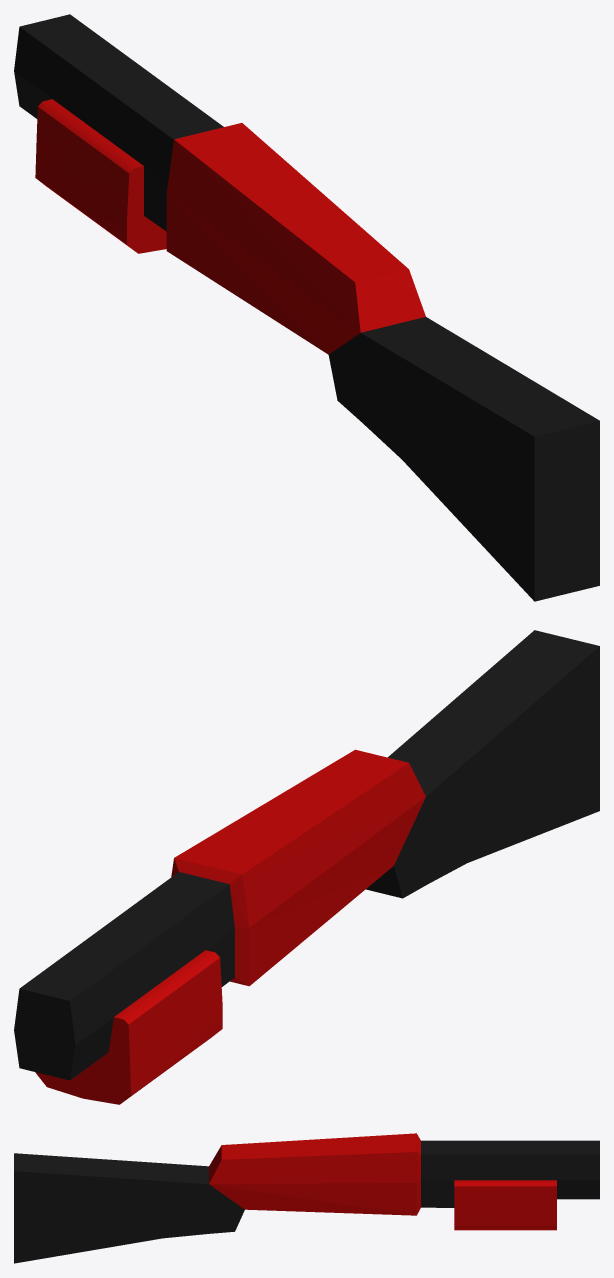
The model's file is Shotgun Gun.FBX.
3 renders of one model, top to bottom at view 1: azimuth 30°, elevation 25°; view 2: azimuth 150°, elevation 25°; view 3: azimuth 270°, elevation 25°, orthographic. The views are drawn at different scales.
Parts seen in each view (by area): view 1: Weapon; view 2: Weapon; view 3: Weapon.
Part boxes in pixels (box(x1,y1,x2,y2)): Weapon: box(14, 14, 599, 601); Weapon: box(14, 630, 599, 1104); Weapon: box(14, 1133, 599, 1263).
Bounding box in the file's own units: 17.62 × 35.16 × 167.
